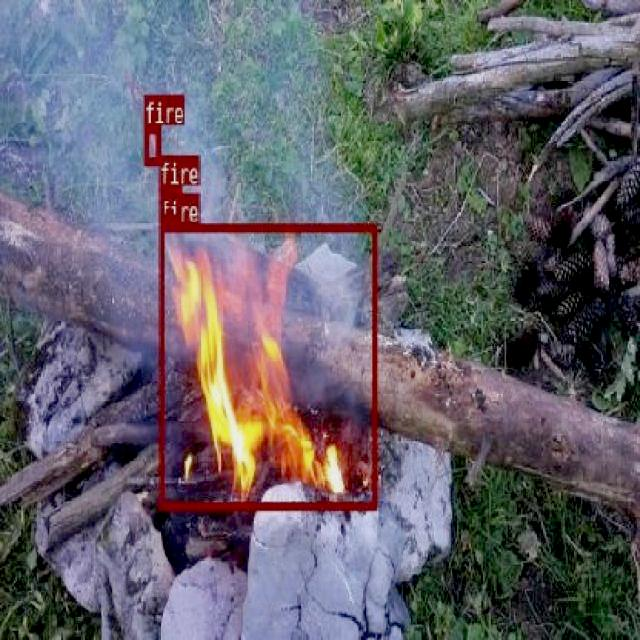fire: (158, 222, 376, 508), (157, 184, 180, 222), (143, 124, 160, 164)
